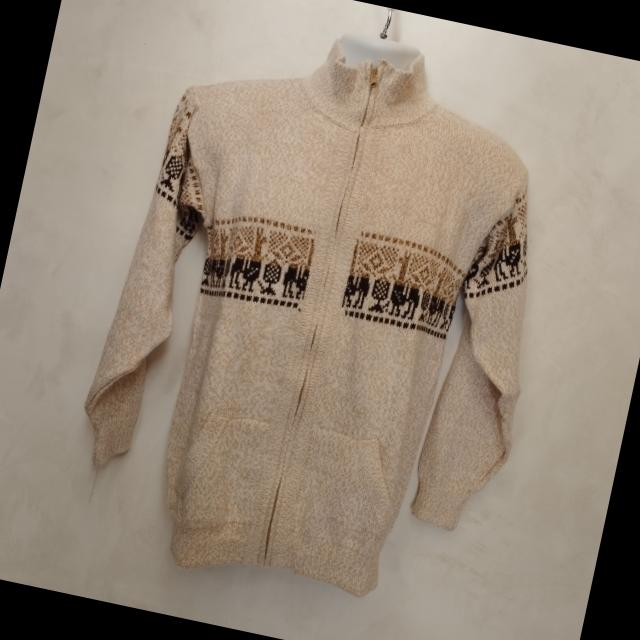Chompa: (55, 0, 589, 629)
